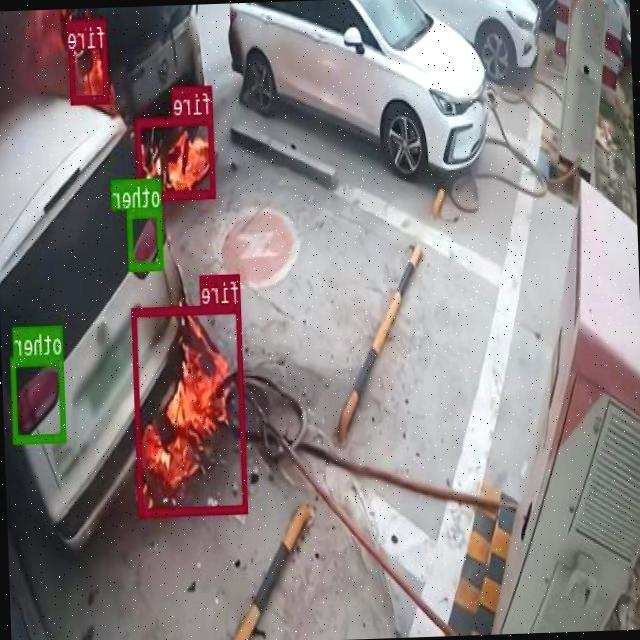fire: (132, 303, 248, 514), (136, 114, 216, 199), (69, 19, 110, 102)
